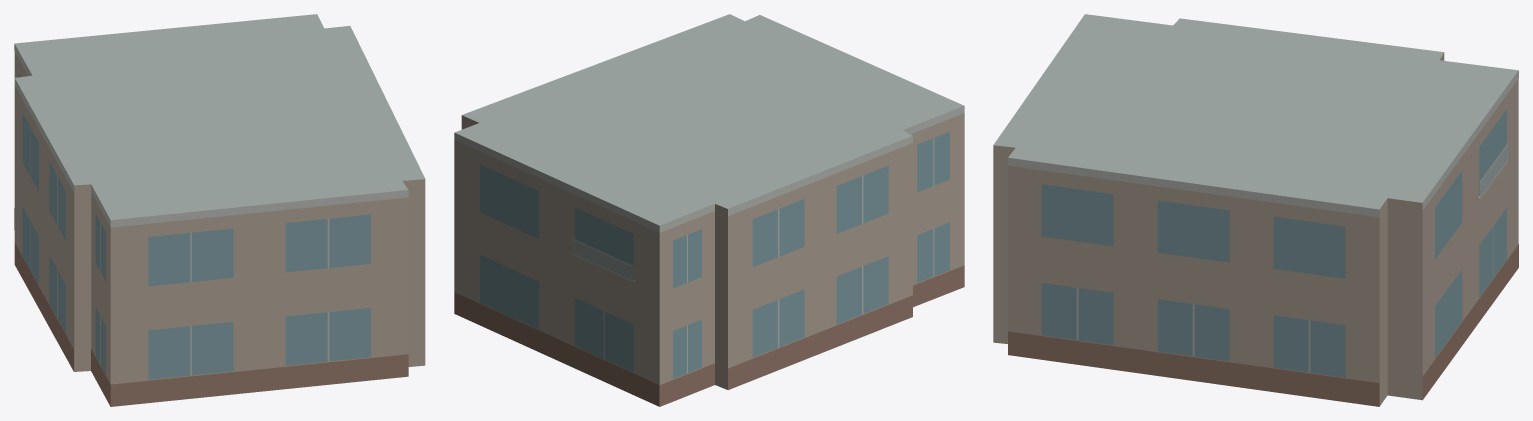
The model's file is survey-upis-32847538.glb.
3 renders of one model, left to right at view 1: azimuth 30°, elevation 25°; view 2: azimuth 150°, elevation 25°; view 3: azimuth 270°, elevation 25°, orthographic. The views are drawn at different scales.
Parts seen in each view (by area): view 1: survey-upis-32847538.tmp; view 2: survey-upis-32847538.tmp; view 3: survey-upis-32847538.tmp.
Part boxes in pixels (<box>): survey-upis-32847538.tmp: <box>14,14,425,406</box>; survey-upis-32847538.tmp: <box>454,14,964,406</box>; survey-upis-32847538.tmp: <box>993,14,1518,406</box>.
Size of the model in its own units: 12.97 by 6.1 by 14.73.
